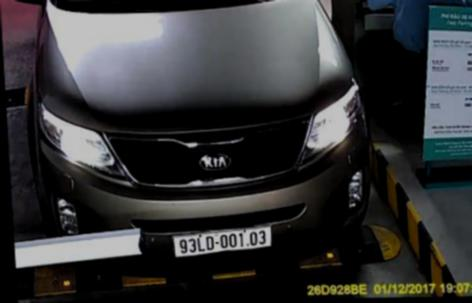License_Plate: (170, 227, 278, 257)
